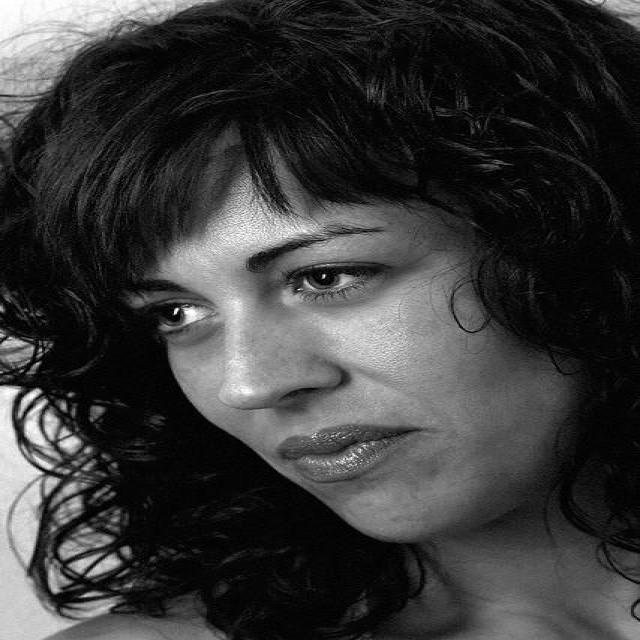no-glass: (141, 262, 384, 332)
